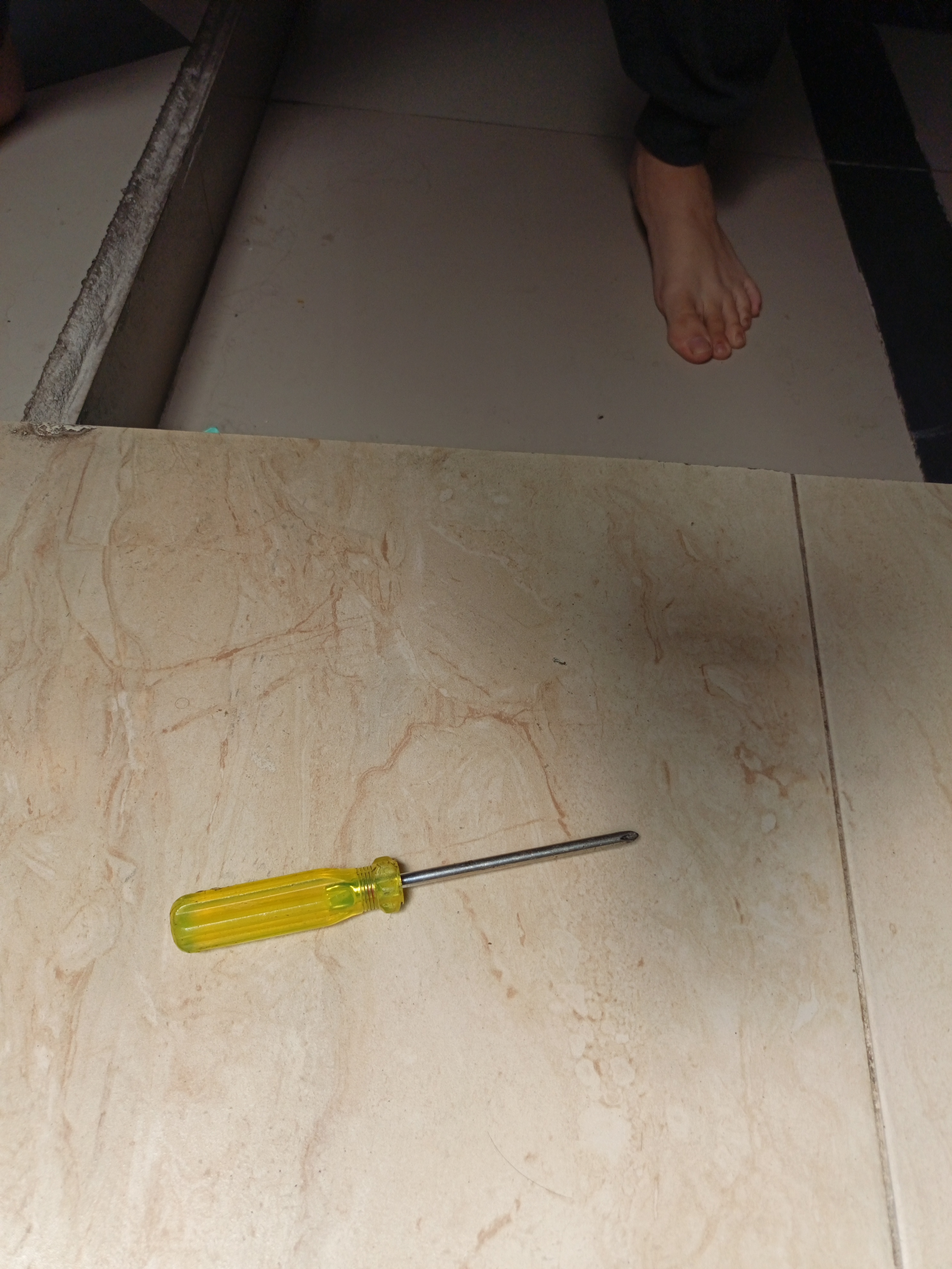Destornillador: (170, 831, 638, 952)
